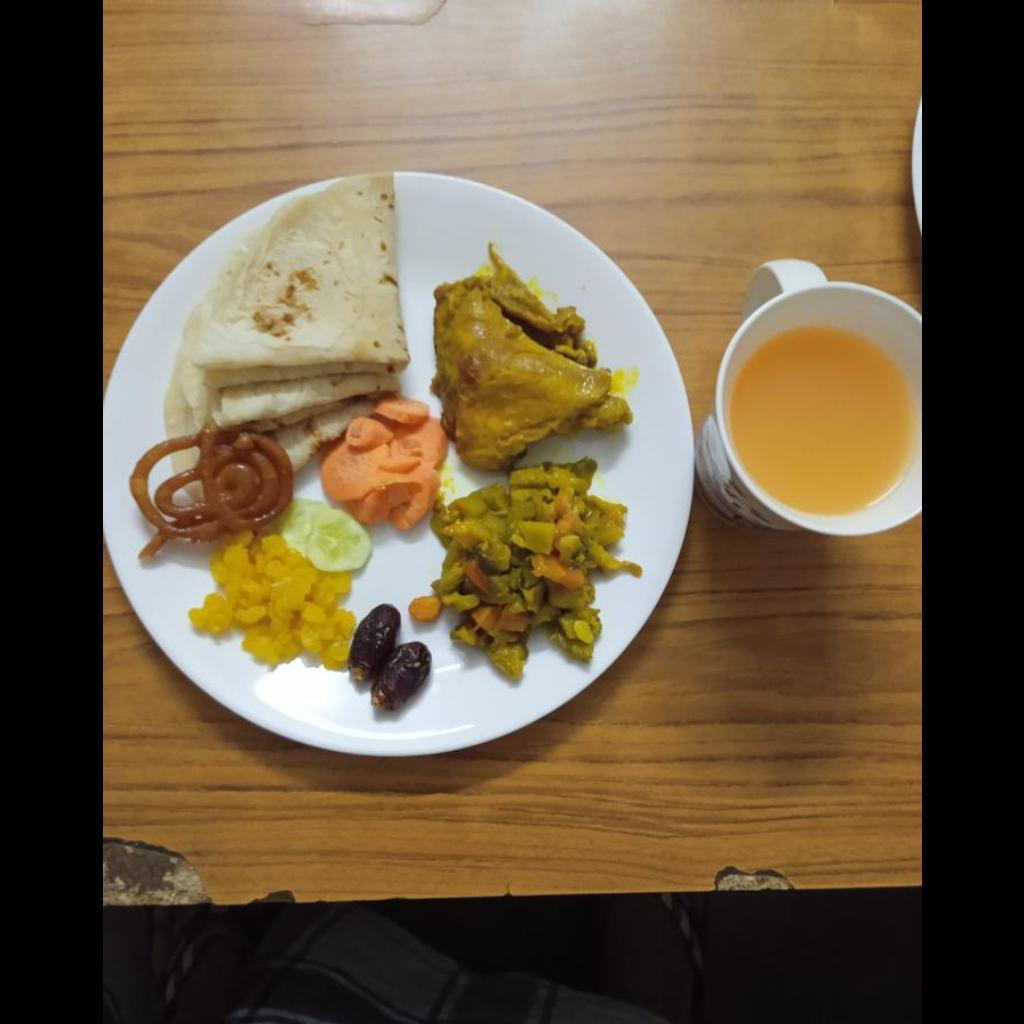burinda: (193, 536, 351, 671)
carrot: (325, 401, 440, 520)
chicken: (435, 246, 636, 467)
cucumber: (279, 498, 371, 572)
dates: (349, 603, 423, 707)
jilapi: (130, 430, 291, 557)
juice: (730, 333, 916, 514)
ruti: (160, 168, 411, 465)
vegetable: (411, 459, 634, 685)
